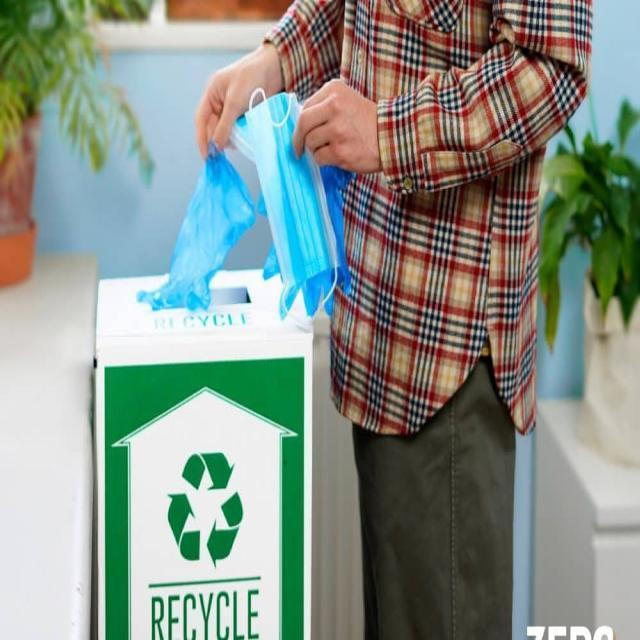Mask: (243, 86, 338, 322), (136, 137, 256, 313)
